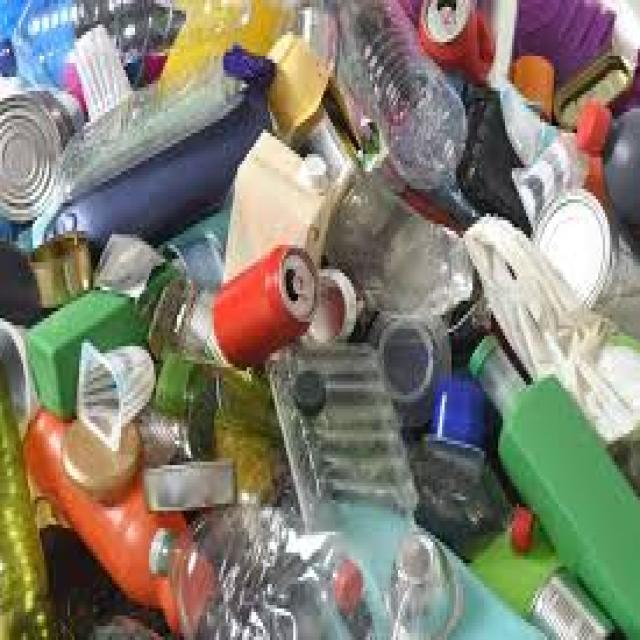Plastics: (468, 311, 640, 626), (8, 244, 155, 591), (336, 0, 485, 182)
can: (215, 237, 318, 365), (0, 84, 58, 217)
